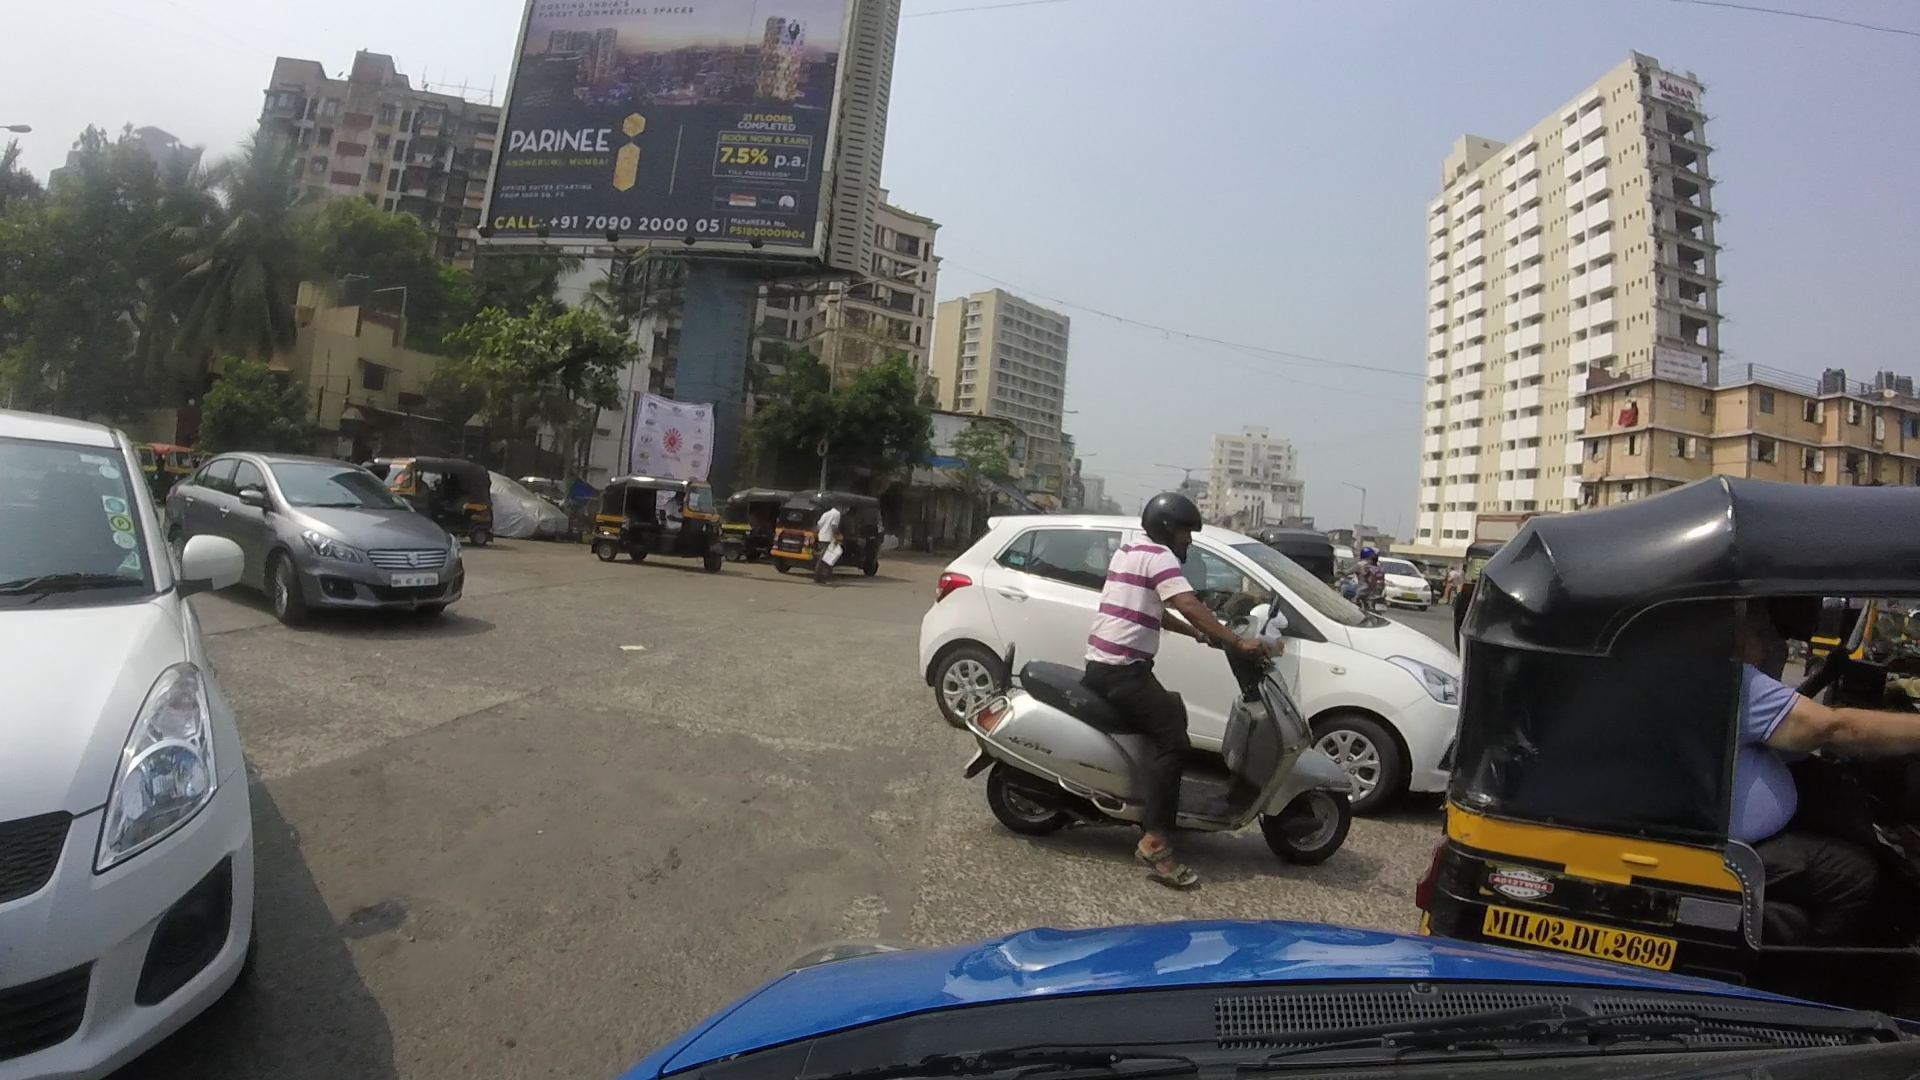bike/scooter: (969, 483, 1375, 891)
car: (913, 501, 1478, 814), (8, 410, 247, 1072), (178, 454, 462, 626)
rickshaw: (1431, 492, 1920, 1015), (593, 463, 728, 578), (766, 483, 884, 578)
